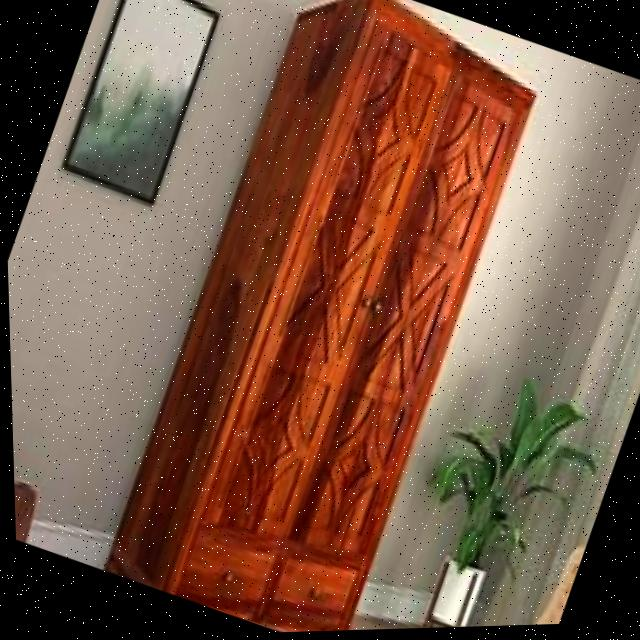dolap: (81, 0, 566, 638)
